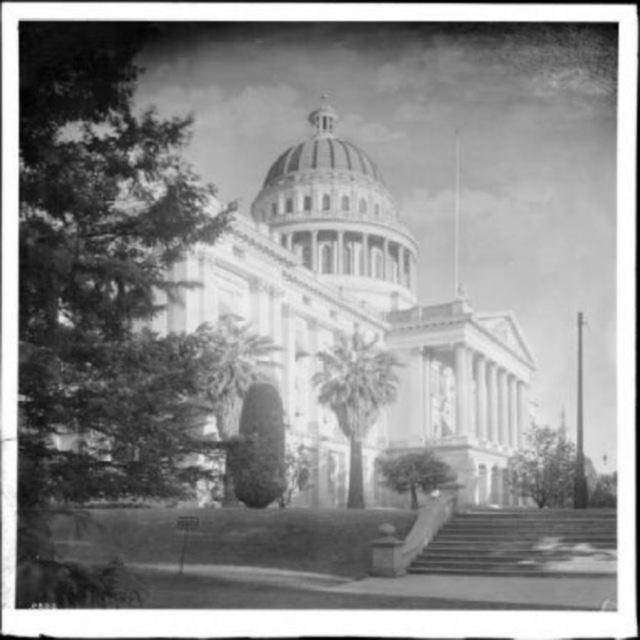stair: (406, 508, 620, 575)
